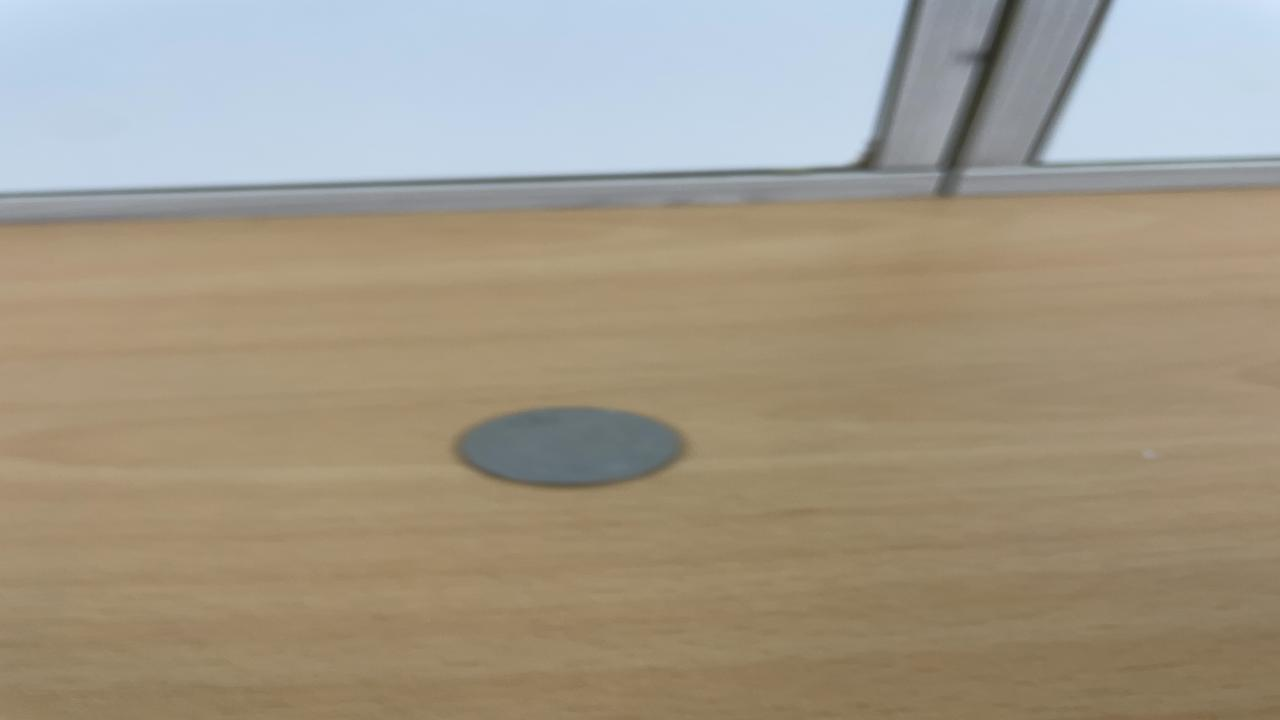coin: (451, 404, 691, 488)
